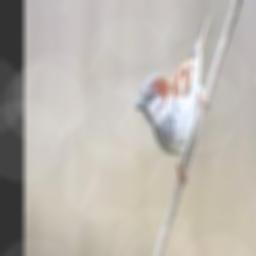Sparrow: (135, 13, 210, 185)
